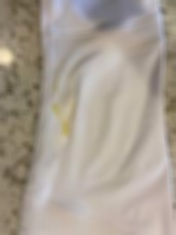mustard: (53, 105, 70, 136), (49, 73, 57, 94)
